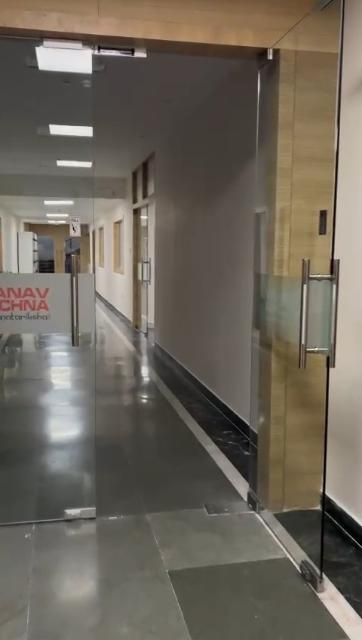door: (128, 172, 154, 330)
floor: (0, 298, 361, 640)
wall: (148, 110, 256, 370)
